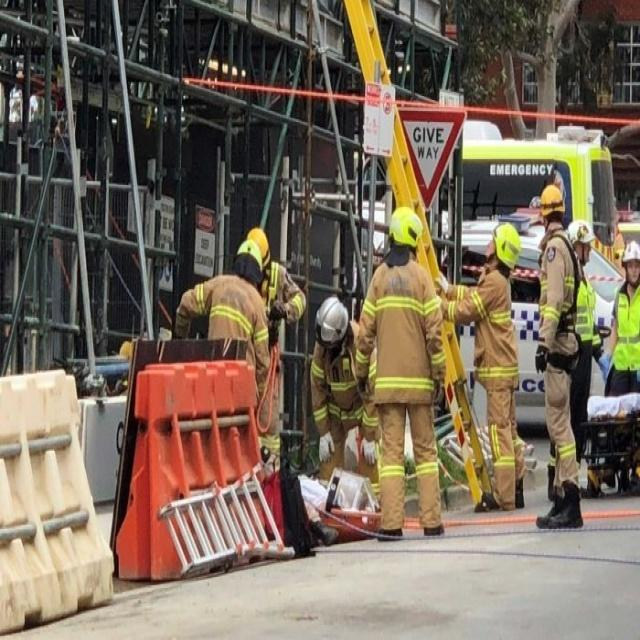helmet: (481, 298, 520, 362), (314, 394, 347, 466), (387, 276, 421, 344), (565, 288, 591, 353), (234, 317, 262, 372), (247, 303, 270, 360), (541, 245, 563, 300), (621, 322, 639, 386)
vest: (366, 345, 447, 540), (470, 360, 523, 520), (536, 309, 582, 482), (196, 360, 276, 457), (312, 440, 373, 557)
